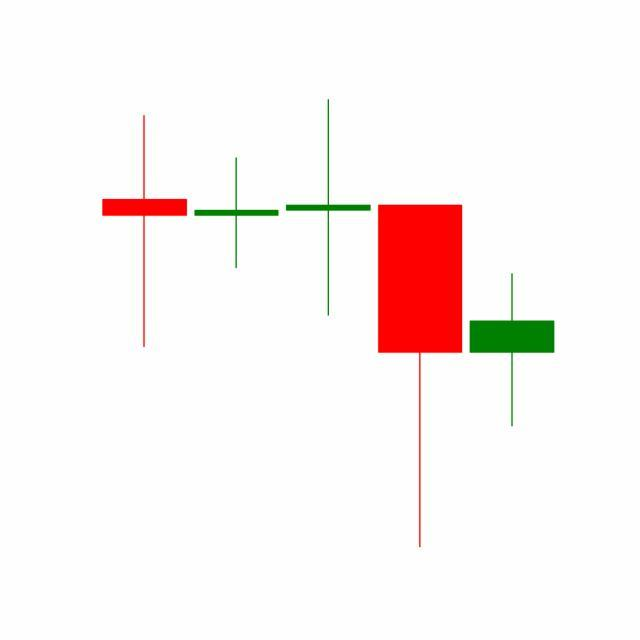Spinning Top: (466, 272, 559, 429)
